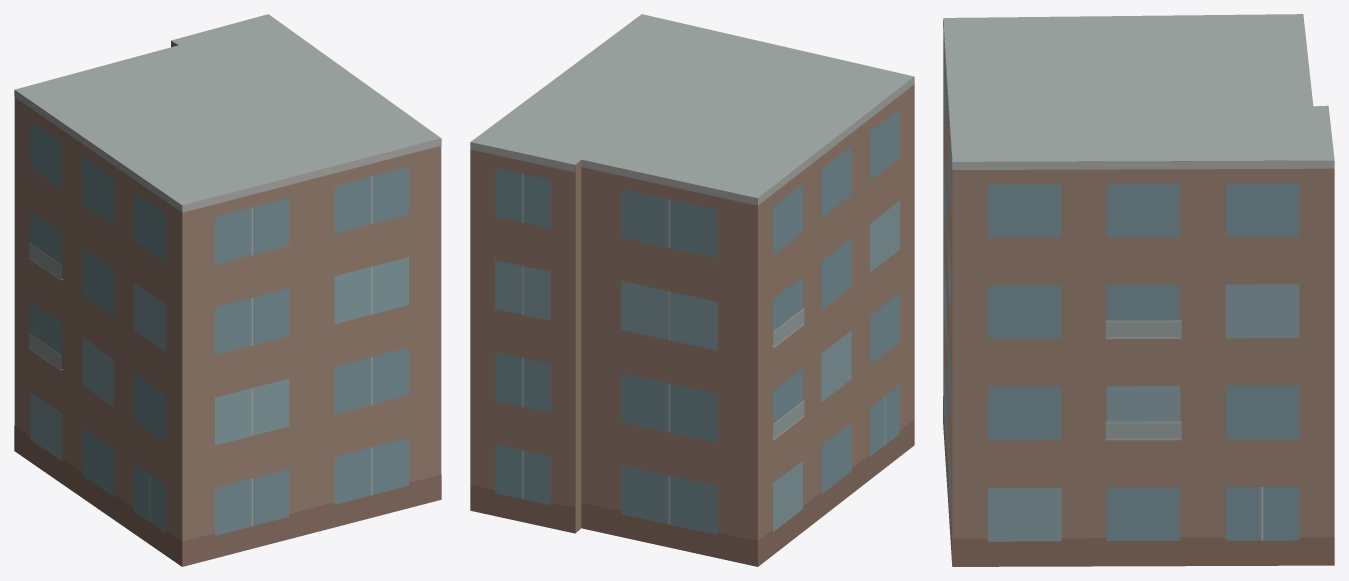
File: survey-upis-32875750.glb
3 views of the same model, side by side, from view 1: azimuth 30°, elevation 25°; view 2: azimuth 150°, elevation 25°; view 3: azimuth 270°, elevation 25° (orthographic). The views are drawn at different scales.
Parts seen in each view (by area): view 1: survey-upis-32875750.tmp; view 2: survey-upis-32875750.tmp; view 3: survey-upis-32875750.tmp.
Part boxes in pixels (x1=…): survey-upis-32875750.tmp: x1=14, y1=14, x2=441, y2=566; survey-upis-32875750.tmp: x1=470, y1=14, x2=914, y2=566; survey-upis-32875750.tmp: x1=943, y1=14, x2=1334, y2=566.
Bounding box in the file's own units: 9.46 × 12.05 × 10.57.
